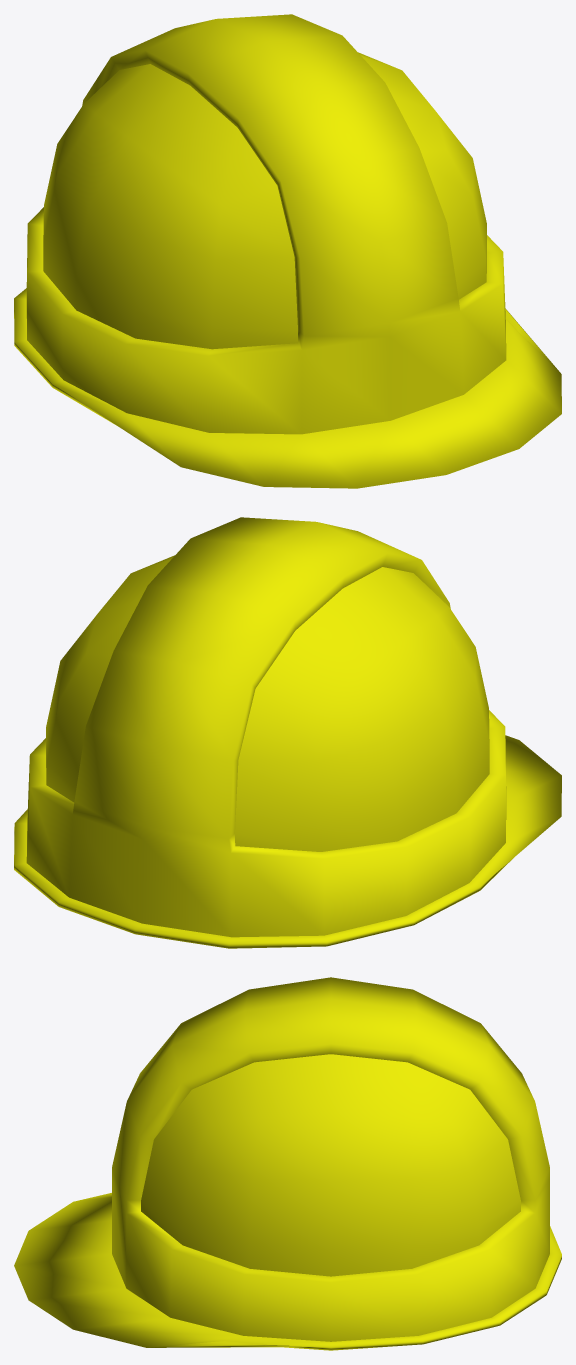
The model's file is Helmet.fbx.
3 views of the same model, one above another, from view 1: azimuth 30°, elevation 25°; view 2: azimuth 150°, elevation 25°; view 3: azimuth 270°, elevation 25° (orthographic). The views are drawn at different scales.
Parts seen in each view (by area): view 1: Helmet; view 2: Helmet; view 3: Helmet.
Boxes of the visible parts, box(x1,y1,x2,y2) form: Helmet: box(14, 14, 561, 488); Helmet: box(14, 517, 561, 948); Helmet: box(14, 977, 561, 1350).
Size of the model in its own units: 0.2018 by 0.1364 by 0.2542.
